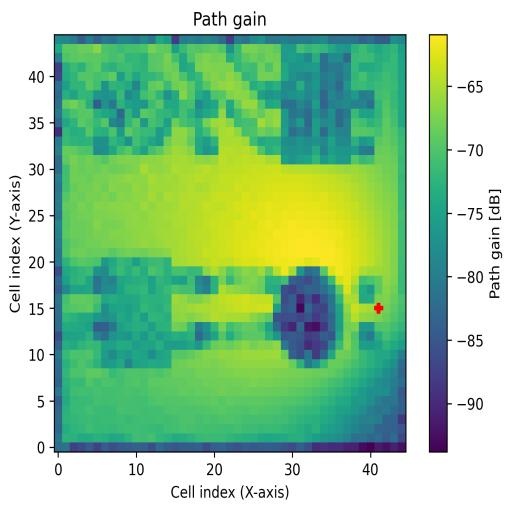Concrete: (281, 52, 375, 165)
Glass: (124, 55, 219, 157)
Metal: (273, 266, 343, 369)
Wood: (92, 256, 172, 369)
